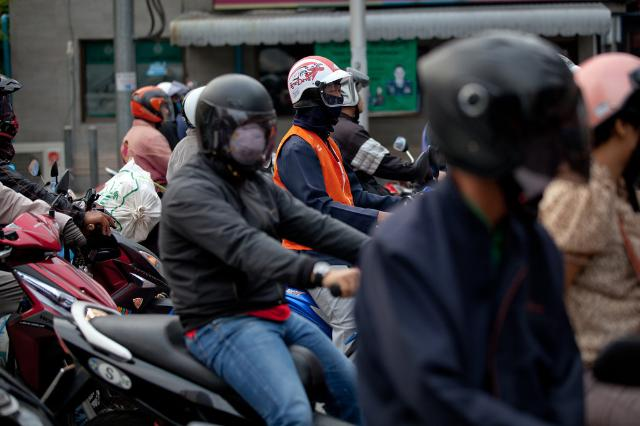helm: (412, 30, 597, 197), (574, 46, 640, 182), (195, 75, 281, 173), (287, 56, 359, 135), (133, 85, 176, 132), (2, 71, 24, 143)
motor: (50, 269, 420, 426), (4, 164, 122, 426)
